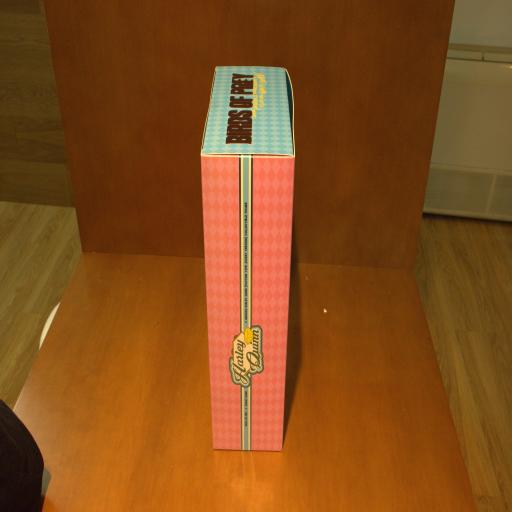Harley: (201, 64, 295, 452)
